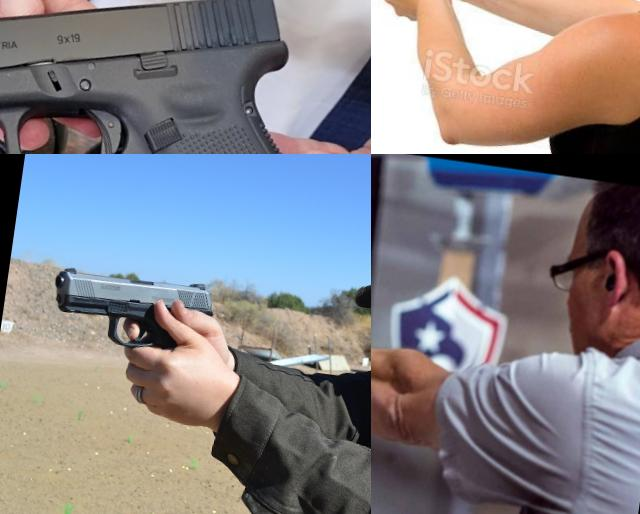handgun: (0, 0, 371, 154), (42, 260, 222, 374), (371, 268, 443, 411), (371, 0, 470, 73)
